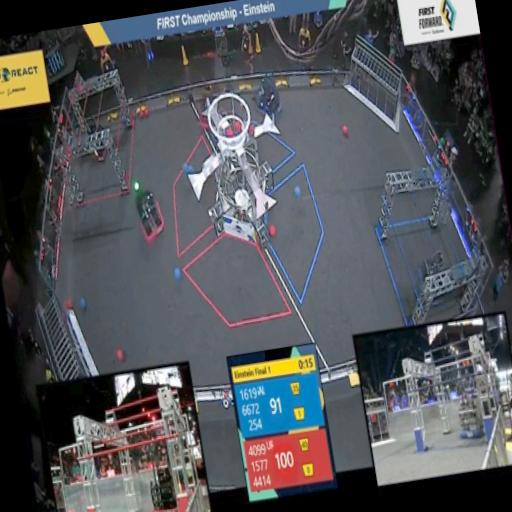robot: (128, 175, 172, 250), (247, 62, 286, 126), (412, 248, 452, 303), (82, 109, 112, 166)
